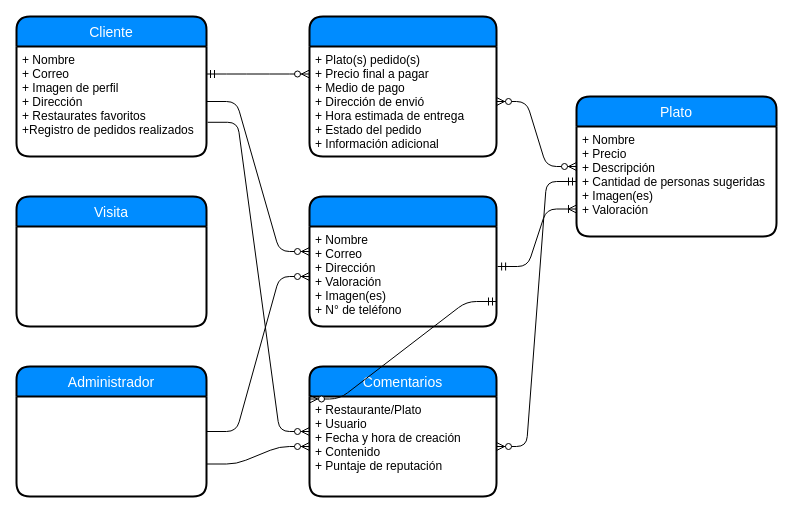
Image size: 793x513. Some labels were removed from this diagram. Here are the shapes that lost their labels. From the top down, the box of each, then its label:
(308, 15, 497, 157): Orden
(308, 195, 497, 327): Restaurante
